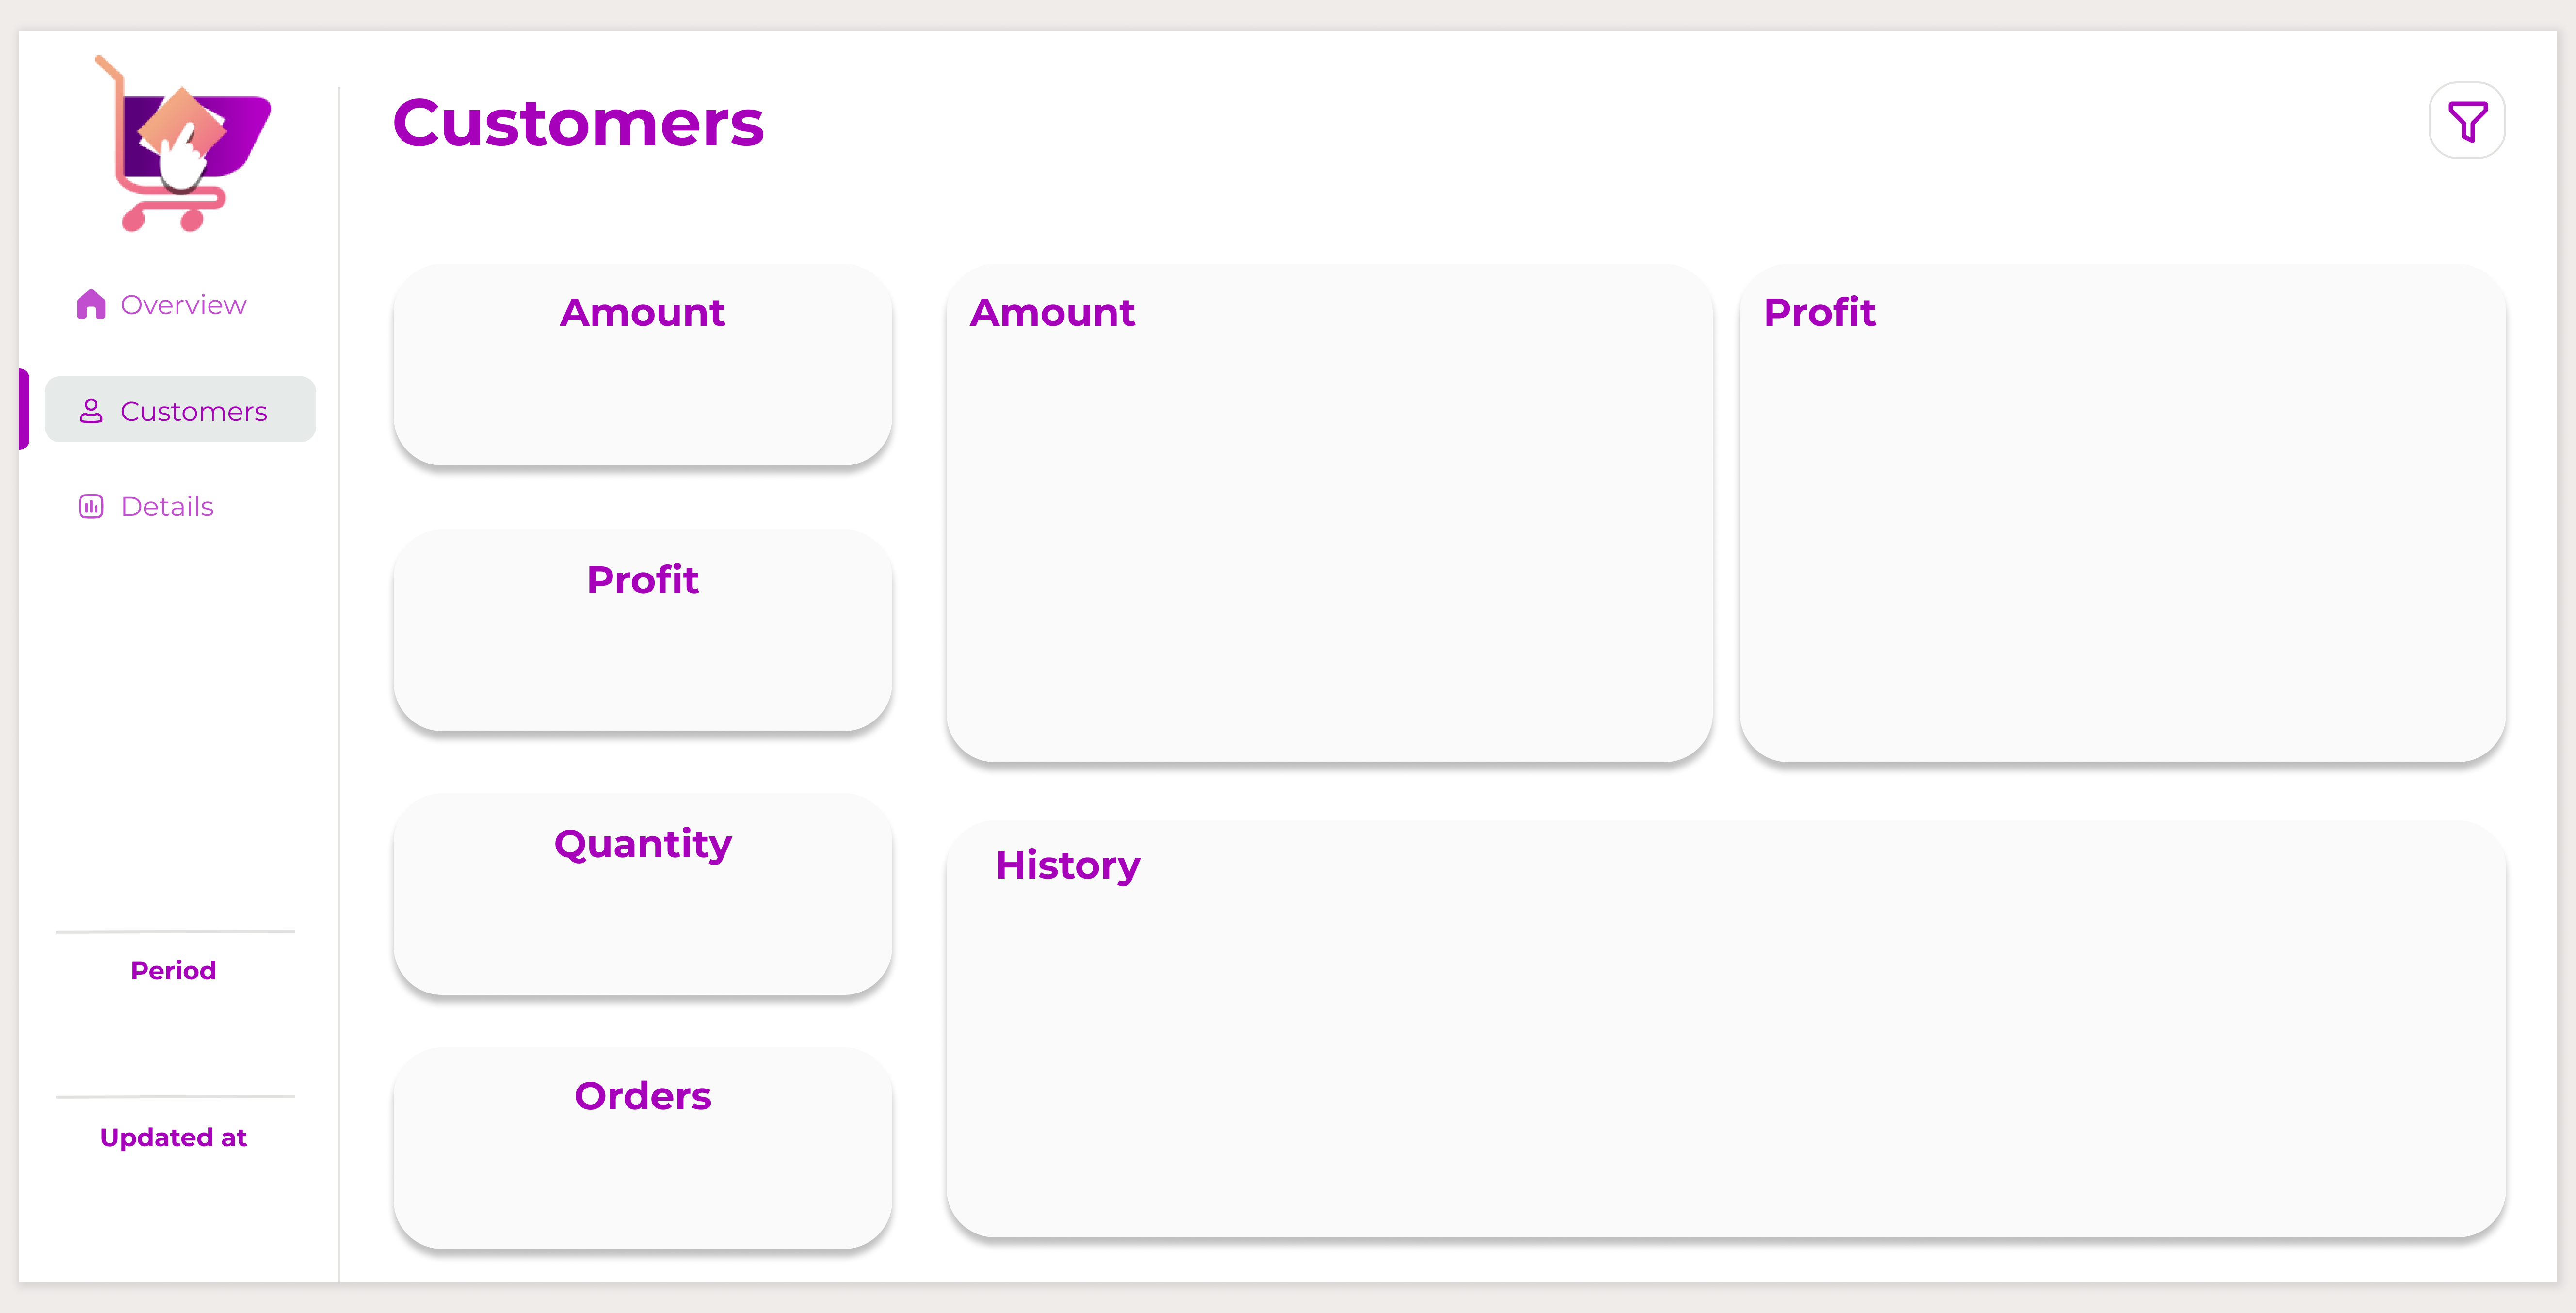

This screenshot's page, from the dashboard's own definition file:
{"tool":"powerbi","page":{"name":"Customers","canvas":[1328,677],"ordinal":1},"visuals":[{"type":"clusteredColumnChart","fields":{"Category":["dCalendar.date.Variation.Date Hierarchy.Year","dCalendar.date.Variation.Date Hierarchy.Month"],"Y":["Sum(Order Details.Amount)","Sum(Order Details.Profit)"]},"box":[484.3,452.9,804.3,185.7],"z":0},{"type":"barChart","fields":{"Y":["Sum(Order Details.Amount)"],"Series":["Order Details.Category"],"Category":["List of Orders.CustomerName"]},"box":[484.3,172.9,397.1,225.7],"z":1000},{"type":"barChart","fields":{"Series":["Order Details.Category"],"Y":["Sum(Order Details.Profit)"],"Category":["List of Orders.CustomerName"]},"box":[900,172.9,388.6,225.7],"z":2000},{"type":"card","fields":{"Values":["Sum(Order Details.Amount)"]},"box":[208.3,173.3,250,53.3],"z":3000},{"type":"card","fields":{"Values":["Sum(Order Details.Profit)"]},"box":[205,311.7,256.7,53.3],"z":4000},{"type":"card","fields":{"Values":["Sum(Order Details.Quantity)"]},"box":[203.3,453.3,258.3,53.3],"z":5000},{"type":"card","fields":{"Values":["CountNonNull(Order Details.Order ID)"]},"box":[205,585,253.3,53.3],"z":6000},{"type":"textbox","box":[11.4,517.1,162.9,41.4],"z":7000},{"type":"shape","box":[1250,38.3,56.7,48.3],"z":9000},{"type":"card","fields":{"Values":["Min(updated.updated)"]},"box":[10,570,162.9,95.7],"z":10000},{"type":"shape","box":[38.6,250,105.7,35.7],"z":10001},{"type":"shape","box":[38.6,137.1,105.7,35.7],"z":10002}]}

Visuals, with their boxes on the page's 1328x677 design canvas (x1, y1, x2, y2). These are canvas units, not pixel positions in the 2576x1313 screenshot, which may show the page scaled, cropped or inside an application window:
clusteredColumnChart - dCalendar.date.Variation.Date Hierarchy.Year x dCalendar.date.Variation.Date Hierarchy.Month: bbox=(484, 453, 1289, 639)
barChart - Sum(Order Details.Amount) x Order Details.Category: bbox=(484, 173, 881, 399)
barChart - Order Details.Category x Sum(Order Details.Profit): bbox=(900, 173, 1289, 399)
card - Sum(Order Details.Amount): bbox=(208, 173, 458, 227)
card - Sum(Order Details.Profit): bbox=(205, 312, 462, 365)
card - Sum(Order Details.Quantity): bbox=(203, 453, 462, 507)
card - CountNonNull(Order Details.Order ID): bbox=(205, 585, 458, 638)
textbox: bbox=(11, 517, 174, 558)
shape: bbox=(1250, 38, 1307, 87)
card - Min(updated.updated): bbox=(10, 570, 173, 666)
shape: bbox=(39, 250, 144, 286)
shape: bbox=(39, 137, 144, 173)
